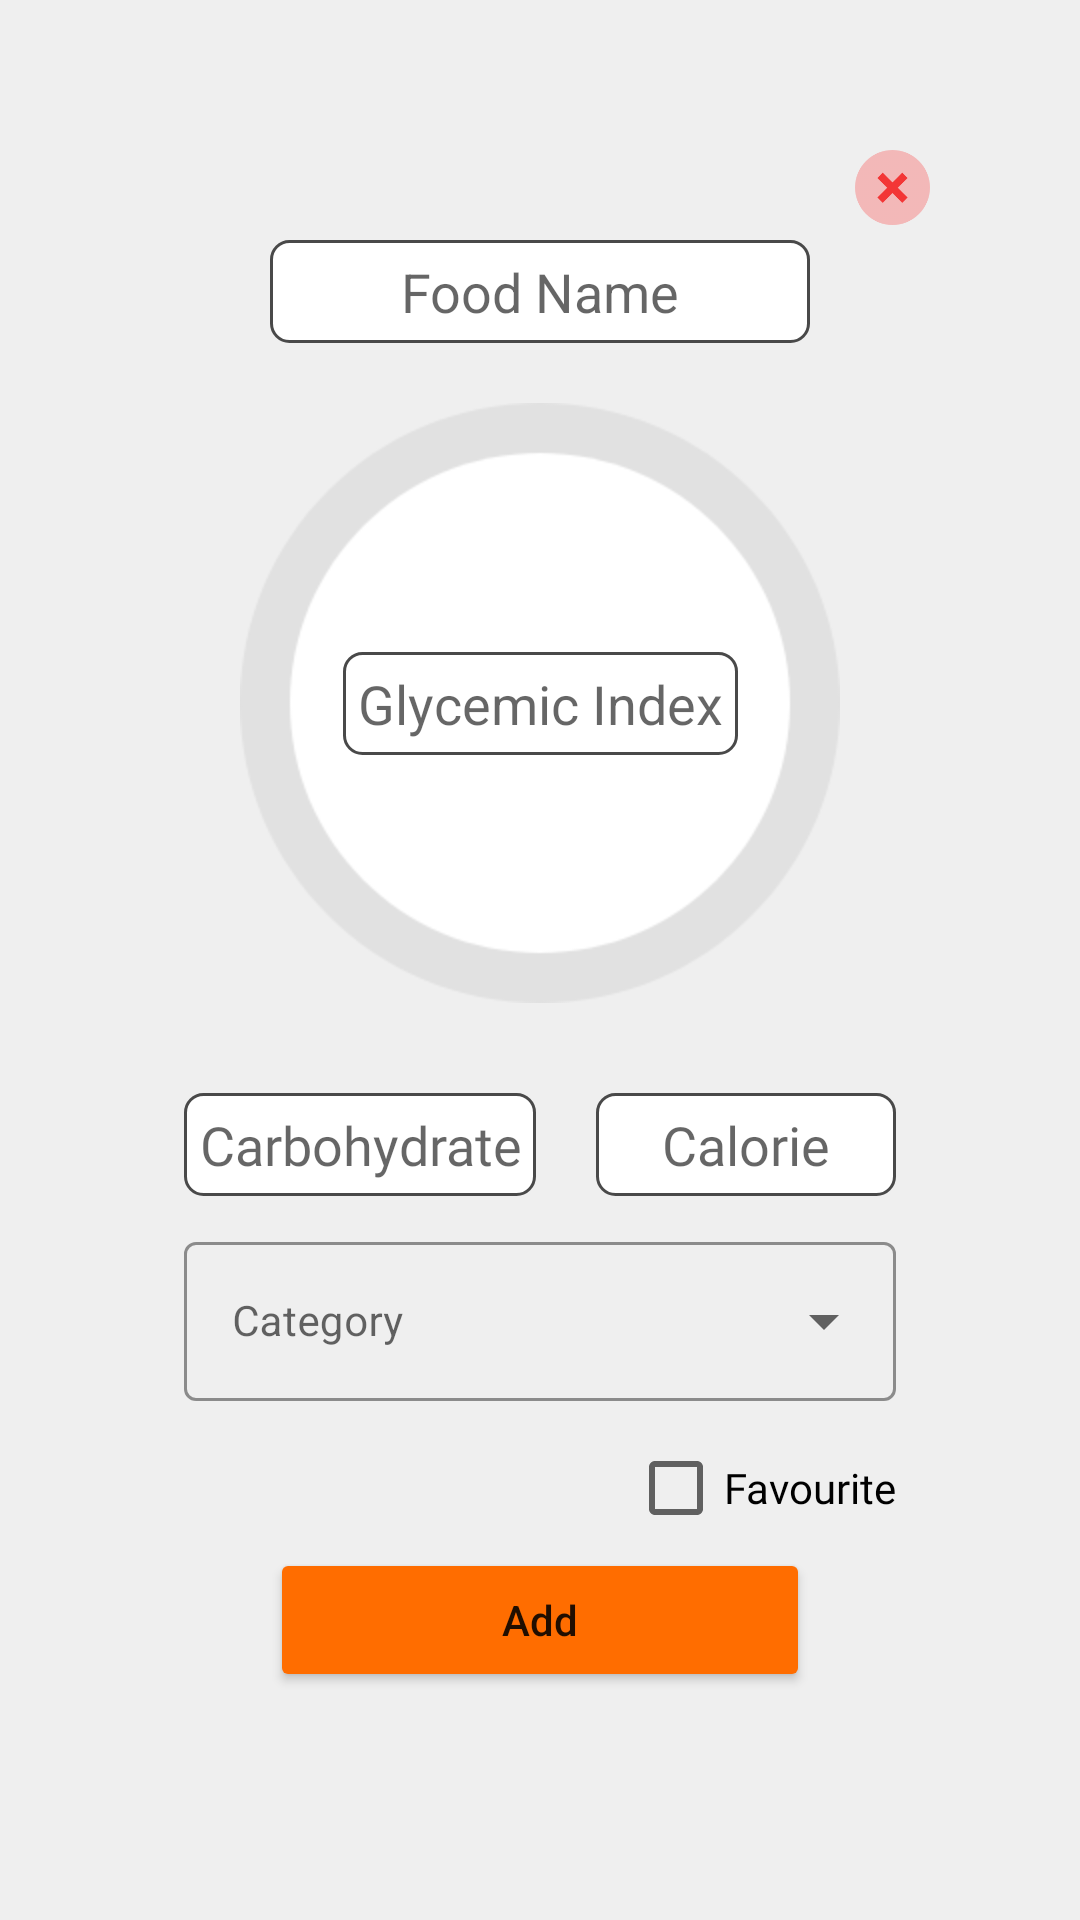

Locate icon controls on the screen. Image size 1080 x 1920, boxes as (x1, y1, x2, y2).
exit: (855, 150, 930, 225)
